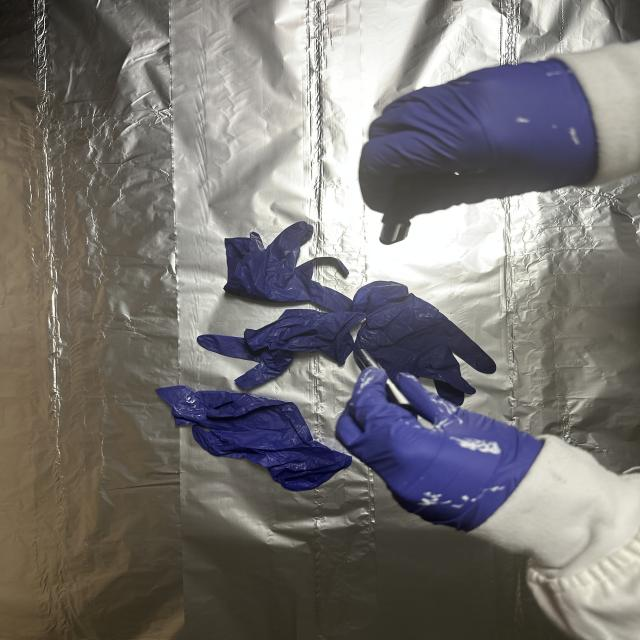gloves_contaminated: (336, 368, 640, 640), (359, 41, 640, 221)
